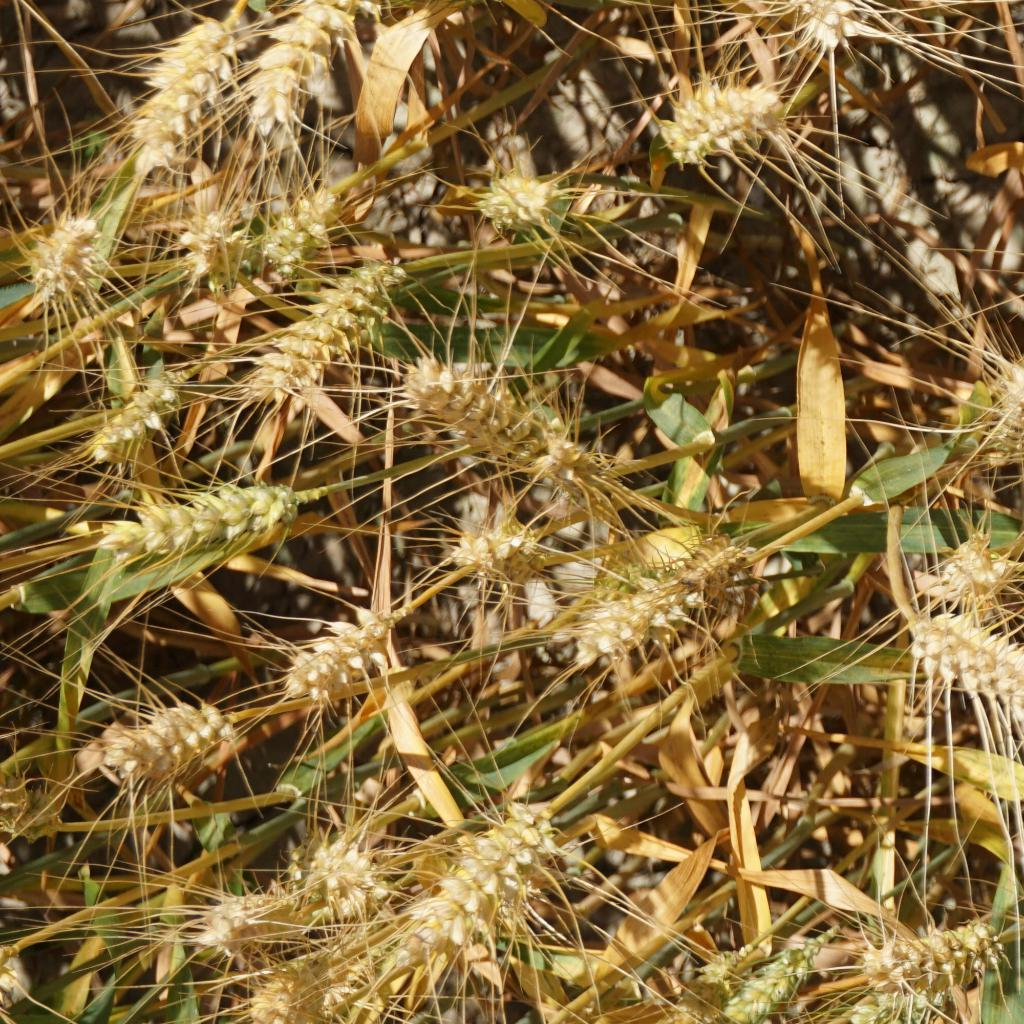0-0: (94, 470, 316, 568), (395, 352, 561, 480), (226, 271, 391, 397), (407, 808, 551, 952), (136, 7, 244, 179), (243, 0, 371, 141), (898, 598, 1024, 723), (642, 77, 798, 173), (71, 694, 239, 781), (762, 0, 920, 79), (276, 602, 401, 699), (854, 921, 1004, 995), (459, 154, 561, 248), (88, 357, 180, 455), (20, 211, 110, 301), (251, 181, 336, 269), (570, 585, 664, 664), (290, 827, 382, 903), (448, 501, 536, 579), (182, 890, 282, 957), (252, 947, 338, 1024), (936, 528, 1006, 608), (671, 527, 750, 596), (973, 350, 1024, 453), (730, 949, 811, 1012), (0, 780, 74, 845), (176, 207, 242, 276), (849, 984, 967, 1020), (670, 963, 733, 1024), (592, 555, 652, 596)
